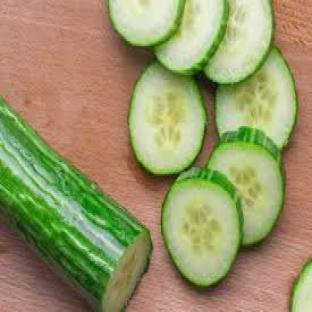Cucumber: (0, 99, 152, 311), (162, 169, 242, 286), (208, 128, 284, 245), (129, 64, 206, 175), (216, 48, 297, 148), (291, 260, 311, 311)
